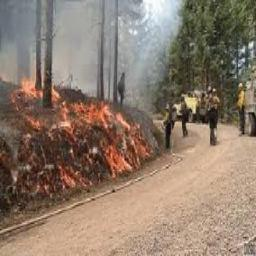Low smoke: (1, 0, 181, 91)
Small fire: (4, 73, 155, 195)
